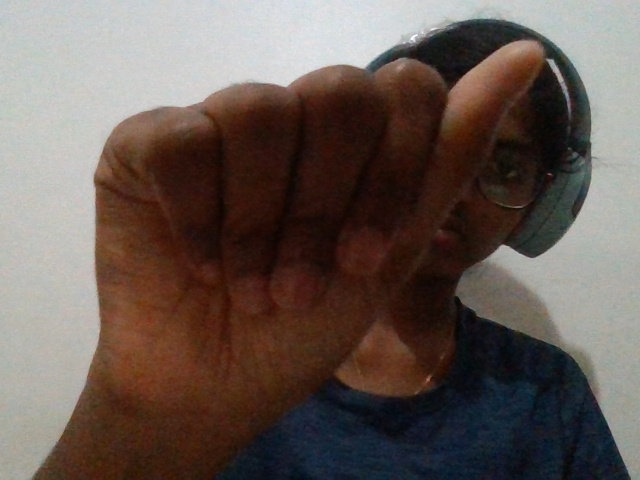A: (34, 24, 556, 480)
